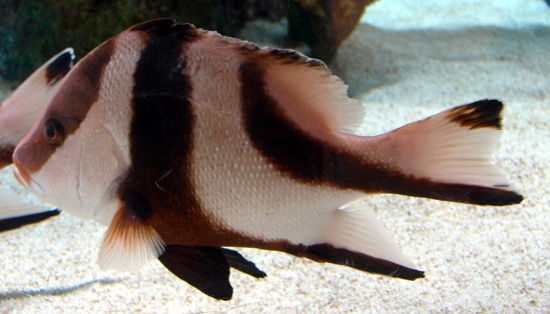fish: (12, 17, 525, 301)
